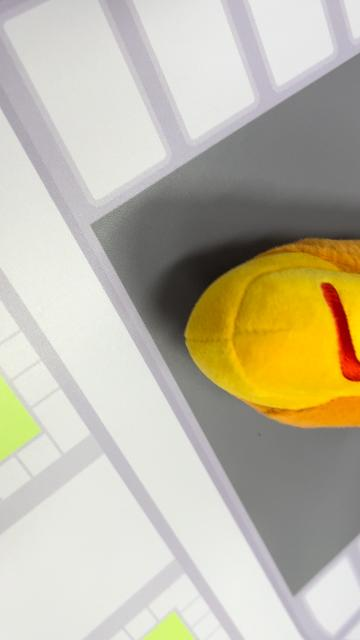hotdog: (183, 236, 359, 429)
